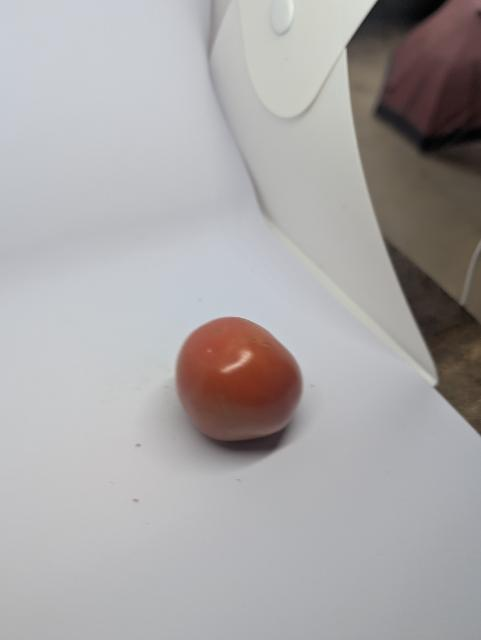red: (174, 314, 310, 446)
